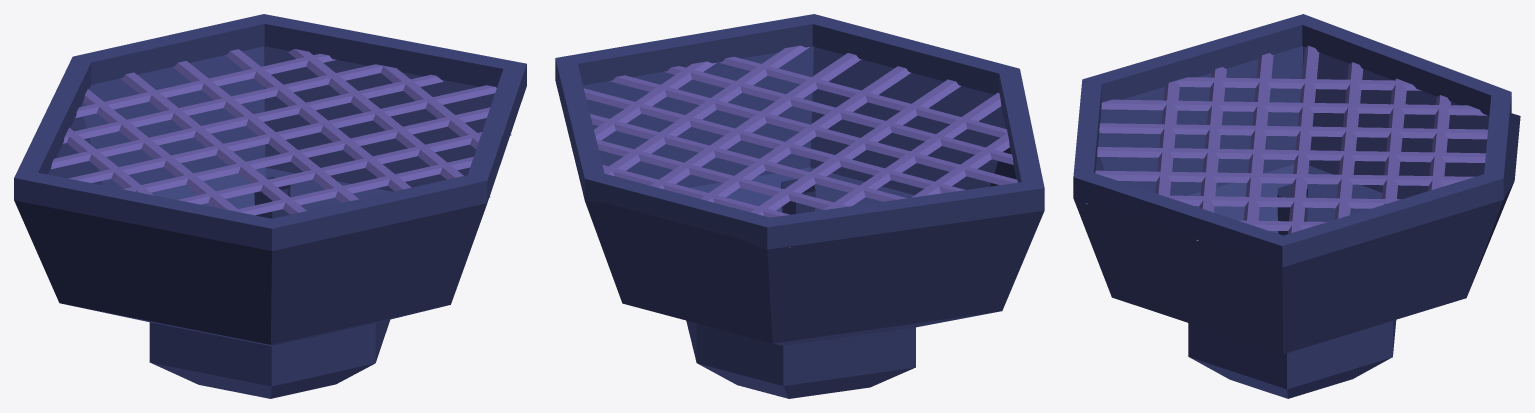
The model's file is Ventilationsol04.fbx.
3 views of the same model, side by side, from view 1: azimuth 30°, elevation 25°; view 2: azimuth 150°, elevation 25°; view 3: azimuth 270°, elevation 25° (orthographic). The views are drawn at different scales.
Visible parts, largest first — view 1: Ventilation02.002; view 2: Ventilation02.002; view 3: Ventilation02.002.
Part boxes in pixels (x1,y1,x2,y2): Ventilation02.002: (14, 14, 526, 398); Ventilation02.002: (555, 14, 1044, 398); Ventilation02.002: (1073, 14, 1520, 398).
Bounding box in the file's own units: 96.59 × 45.47 × 78.59.
